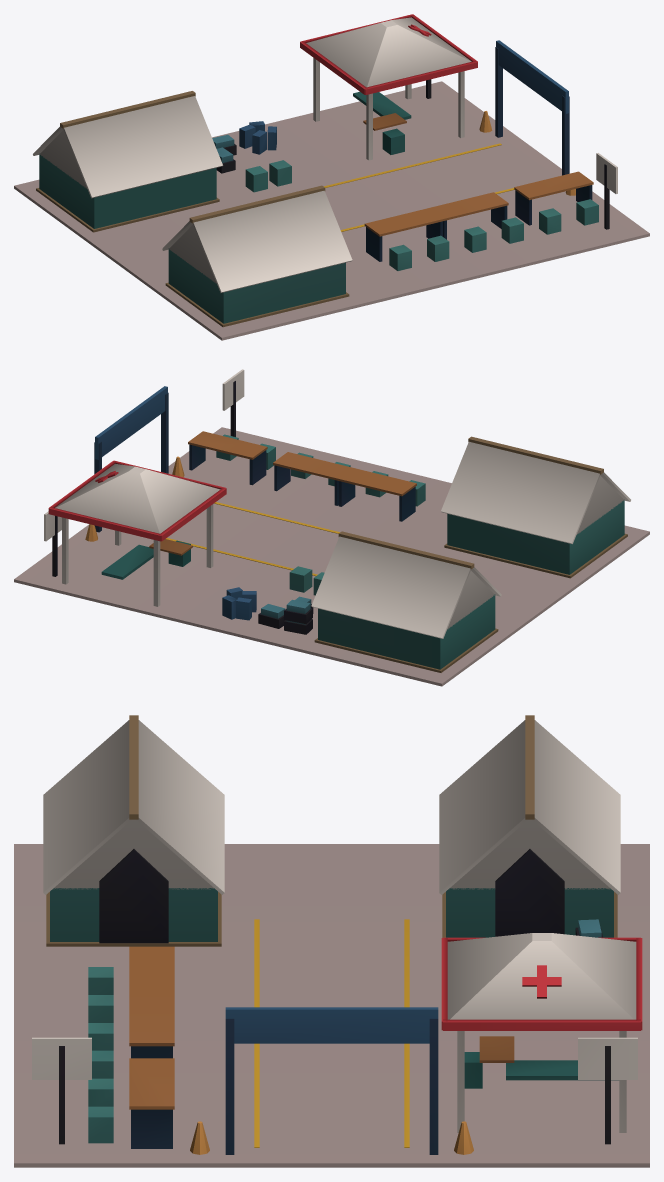
The model's file is kit.reception-plaza.lod2.glb.
3 renders of one model, top to bottom at view 1: azimuth 30°, elevation 25°; view 2: azimuth 150°, elevation 25°; view 3: azimuth 270°, elevation 25°, orthographic. The views are drawn at different scales.
Visible parts, largest first — view 1: body; view 2: body; view 3: body.
Part boxes in pixels (bbox=[...]): body: bbox=[14, 14, 649, 340]; body: bbox=[14, 369, 649, 686]; body: bbox=[14, 715, 649, 1167].
Size of the model in its own units: 12.6 by 3.03 by 10.6.
